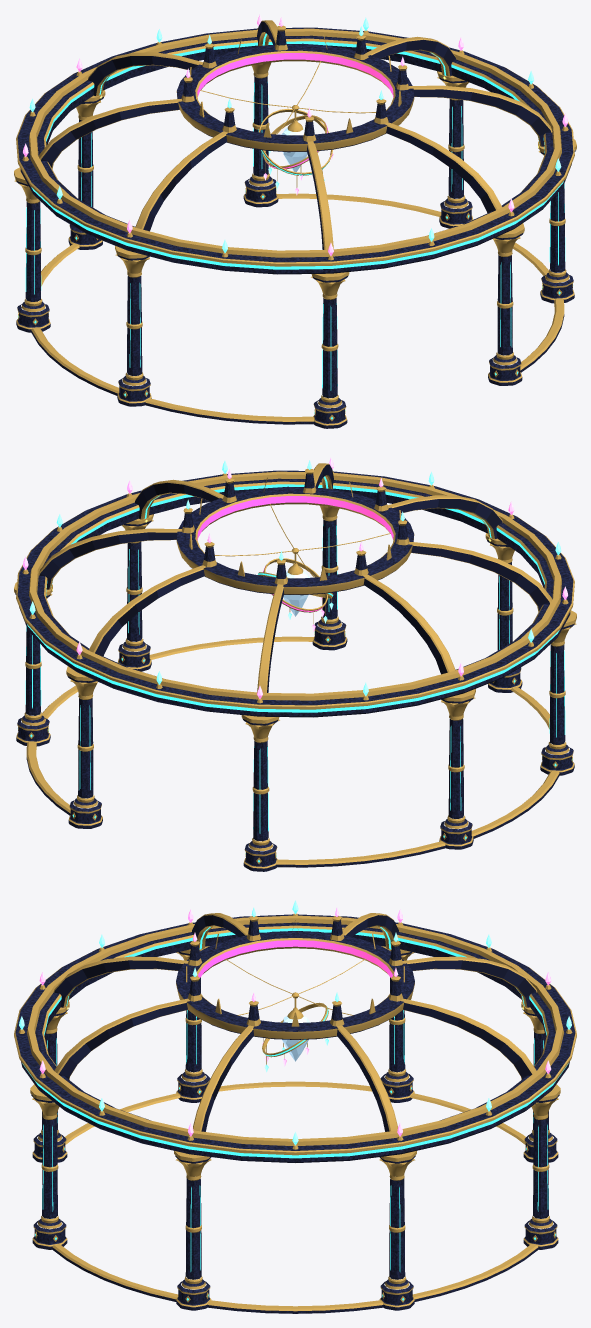
The model's file is dance_gazebo.glb.
The picture shows the model from 3 angles, top to bottom: view 1: azimuth 30°, elevation 25°; view 2: azimuth 150°, elevation 25°; view 3: azimuth 270°, elevation 25°; orthographic projection.
Visible parts, largest first — view 1: DanceGazebo, ChandelierCore; view 2: DanceGazebo, ChandelierCore; view 3: DanceGazebo, ChandelierCore.
Part boxes in pixels (box(x1,y1,x2,y2)): DanceGazebo: box(14, 14, 576, 428); ChandelierCore: box(258, 108, 333, 195); DanceGazebo: box(14, 457, 576, 871); ChandelierCore: box(258, 554, 333, 631); DanceGazebo: box(14, 900, 576, 1313); ChandelierCore: box(262, 998, 328, 1072).
Bounding box in the file's own units: 22.88 × 11.22 × 22.88.
8 materials, 1 textured.
